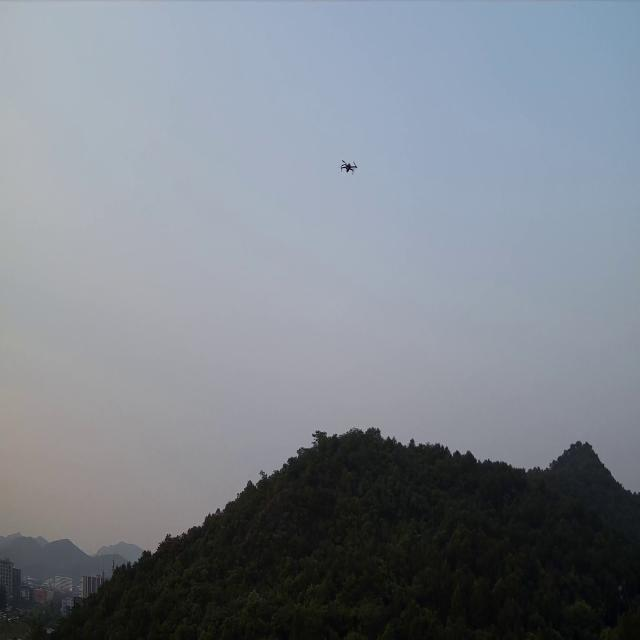UAV: (338, 158, 358, 176)
